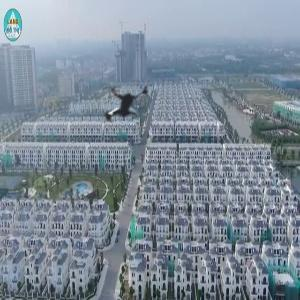drone: (74, 50, 178, 154)
